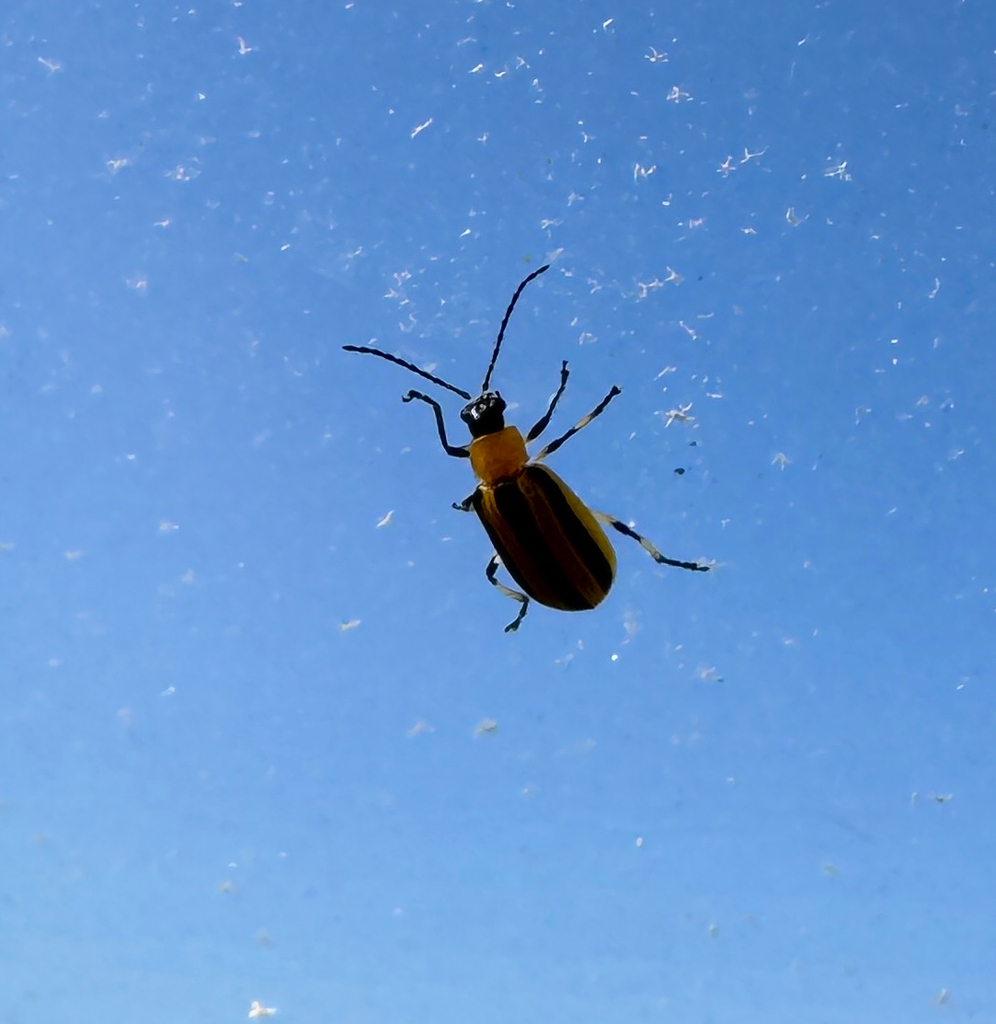potato_beetle: (266, 200, 778, 725)
